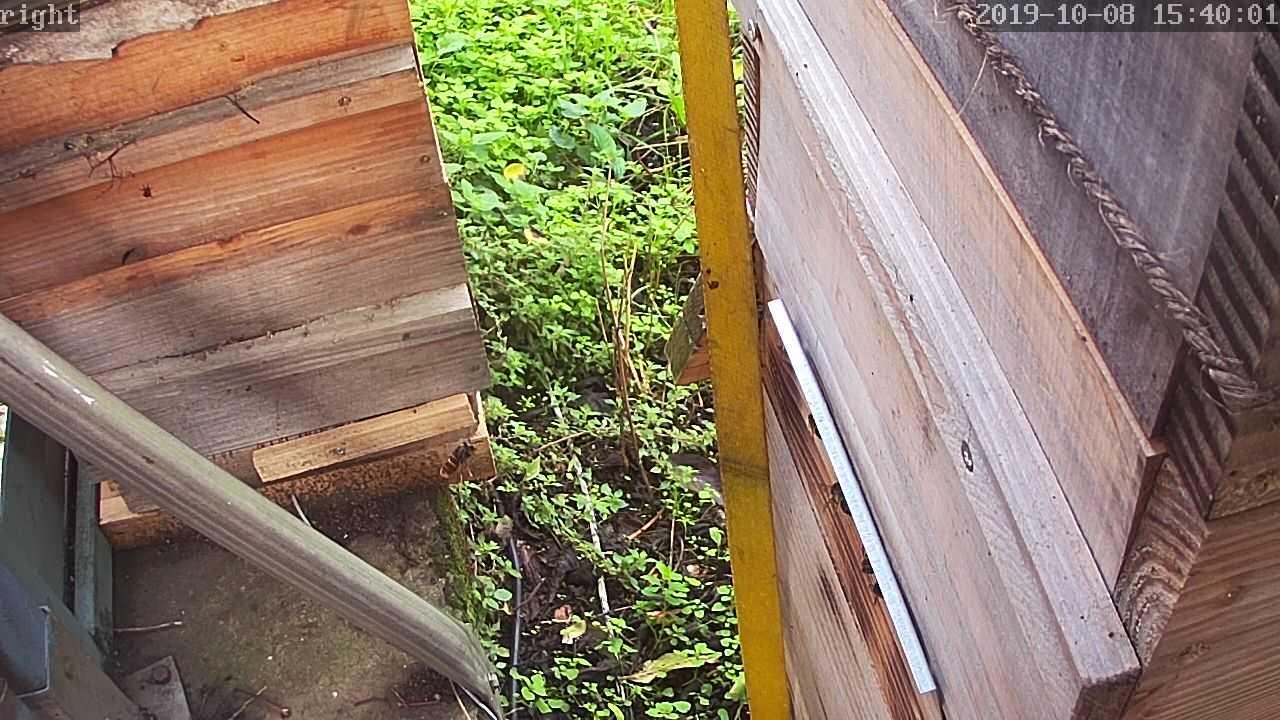bee: (819, 478, 860, 520), (803, 405, 835, 446), (845, 547, 874, 578), (859, 569, 885, 597)
hornet: (436, 438, 487, 481)
